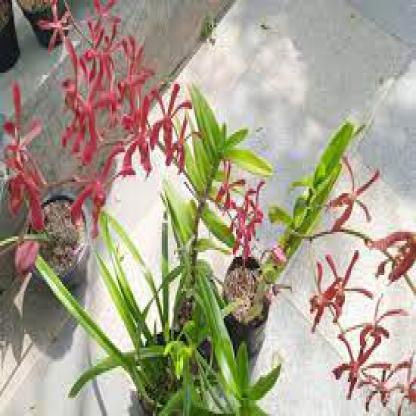ANGGREK: (13, 15, 396, 381)
